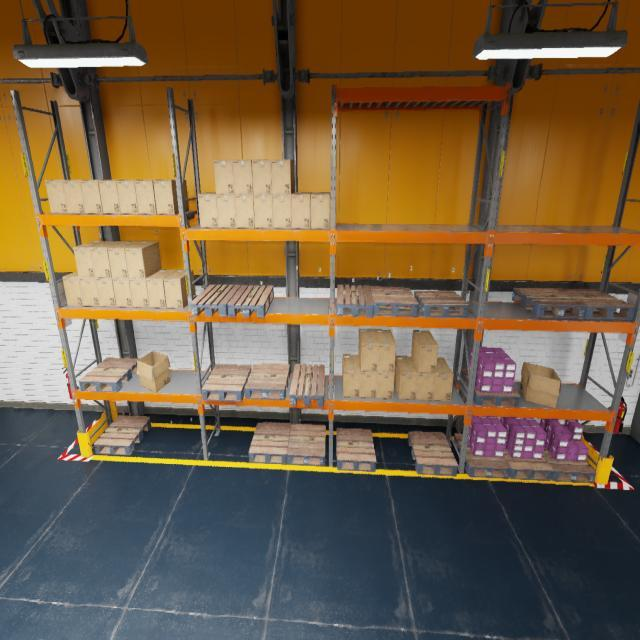box: (522, 359, 562, 407), (138, 348, 170, 395), (358, 329, 394, 370), (415, 330, 436, 370), (155, 180, 176, 216), (398, 357, 415, 395), (344, 355, 359, 398), (214, 161, 234, 193), (272, 161, 292, 193), (46, 178, 64, 213), (63, 275, 83, 306), (234, 159, 252, 193), (293, 195, 310, 230), (274, 195, 292, 228), (125, 249, 145, 278), (95, 277, 114, 307), (312, 194, 329, 227), (137, 180, 153, 215), (199, 195, 217, 226), (236, 197, 254, 228), (255, 196, 272, 228), (217, 196, 235, 226), (165, 279, 184, 307), (254, 162, 271, 193), (82, 182, 99, 212), (101, 182, 118, 212), (119, 182, 136, 212), (75, 247, 93, 275), (130, 278, 148, 306), (435, 373, 452, 401), (65, 181, 80, 212), (108, 250, 125, 276), (94, 250, 110, 277), (116, 278, 130, 306), (379, 372, 394, 397), (362, 373, 377, 397), (83, 277, 95, 305)
